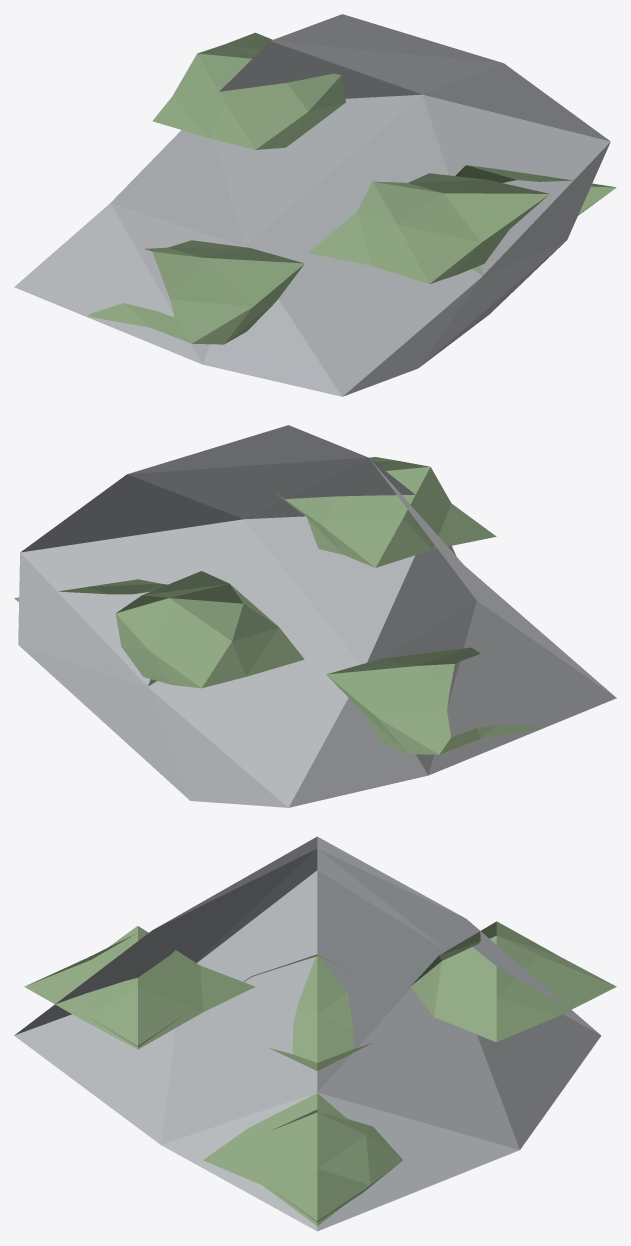
File: moss_rock_v47.glb
3 views of the same model, one above another, from view 1: azimuth 30°, elevation 25°; view 2: azimuth 150°, elevation 25°; view 3: azimuth 270°, elevation 25° (orthographic). The views are drawn at different scales.
Parts seen in each view (by area): view 1: lod0; view 2: lod0; view 3: lod0.
Boxes of the visible parts, box(x1,y1,x2,y2) form: lod0: box(14, 14, 616, 396); lod0: box(14, 425, 616, 807); lod0: box(14, 836, 616, 1231).
Size of what is drawn, in the model's own units: 1.1 by 0.6679 by 0.924.
